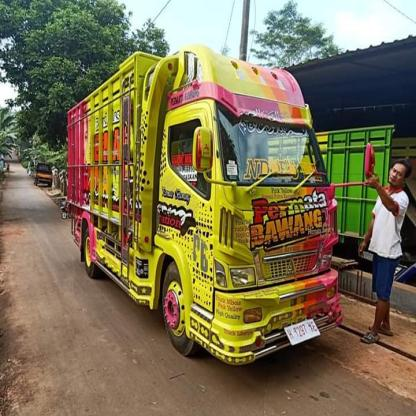truck: (65, 49, 378, 366)
